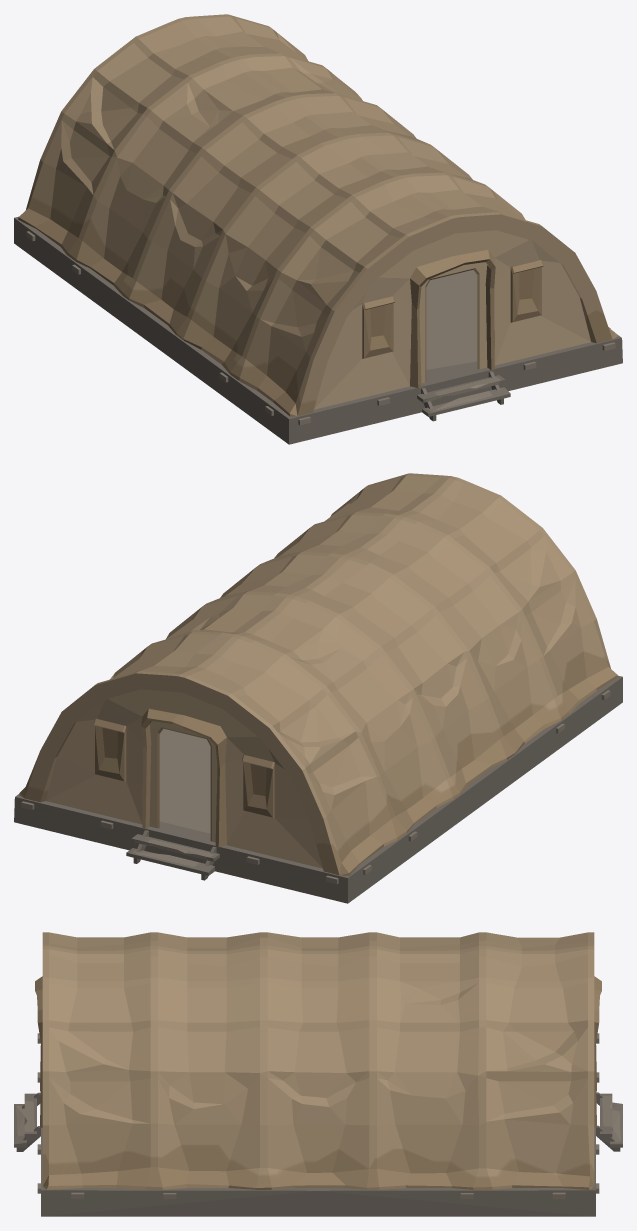
Rendered from SM_Bld_Tent_01.fbx.
3 views of the same model, one above another, from view 1: azimuth 30°, elevation 25°; view 2: azimuth 150°, elevation 25°; view 3: azimuth 270°, elevation 25° (orthographic).
Parts seen in each view (by area): view 1: SM_Bld_Tent_01; view 2: SM_Bld_Tent_01; view 3: SM_Bld_Tent_01.
Boxes of the visible parts, x1,y1,x2,y2 form: SM_Bld_Tent_01: (14, 14, 622, 444); SM_Bld_Tent_01: (14, 473, 622, 903); SM_Bld_Tent_01: (14, 932, 622, 1216).
Bounding box in the file's own units: 780 × 407 × 1203.
